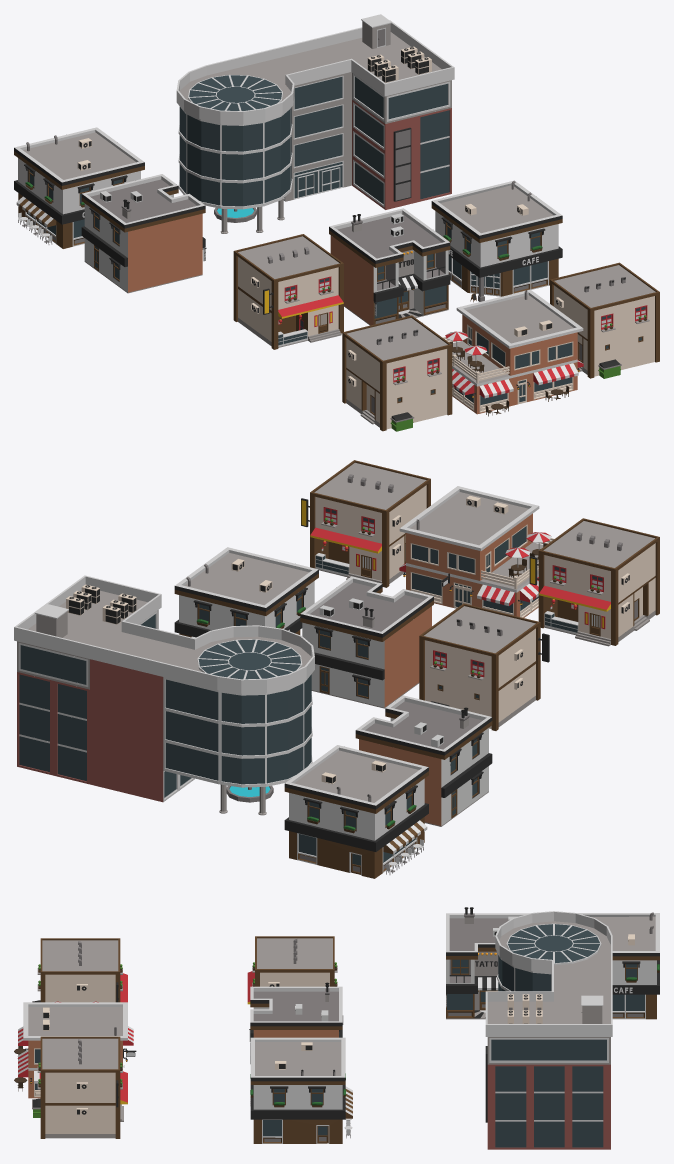
The model's file is shops-buildings.glb.
3 views of the same model, one above another, from view 1: azimuth 30°, elevation 25°; view 2: azimuth 150°, elevation 25°; view 3: azimuth 270°, elevation 25° (orthographic). The views are drawn at different scales.
Visible parts, largest first — view 1: building-mall, building-restaurant, building-cafe.001, building-tattoo.002, building-tattoo.001, building-shop-china.001, building-shop-china.005, building-cafe.002, building-shop-china.004; view 2: building-mall, building-cafe.002, building-restaurant, building-shop-china.001, building-tattoo.001, building-shop-china.005, building-shop-china.004, building-tattoo.002, building-cafe.001; view 3: building-mall, building-cafe.001, building-shop-china.004, building-shop-china.001, building-tattoo.002, building-restaurant, building-cafe.002, building-tattoo.001, building-shop-china.005.
Part boxes in pixels (<box>): building-mall: <box>176,14,454,233</box>; building-restaurant: <box>443,289,583,416</box>; building-cafe.001: <box>431,180,562,302</box>; building-tattoo.002: <box>81,174,206,293</box>; building-tattoo.001: <box>329,208,450,325</box>; building-shop-china.001: <box>342,315,452,431</box>; building-shop-china.005: <box>233,234,343,349</box>; building-cafe.002: <box>14,127,144,248</box>; building-shop-china.004: <box>550,262,659,378</box>; building-mall: <box>14,575,314,815</box>; building-cafe.002: <box>284,745,428,878</box>; building-restaurant: <box>399,486,554,617</box>; building-shop-china.001: <box>529,518,659,646</box>; building-tattoo.001: <box>300,576,433,708</box>; building-shop-china.005: <box>419,603,549,730</box>; building-shop-china.004: <box>301,460,430,587</box>; building-tattoo.002: <box>355,695,492,826</box>; building-cafe.001: <box>174,547,318,637</box>; building-mall: <box>485,911,612,1149</box>; building-cafe.001: <box>250,1037,352,1143</box>; building-shop-china.004: <box>32,1036,127,1138</box>; building-shop-china.001: <box>32,938,127,1002</box>; building-tattoo.002: <box>446,907,529,1019</box>; building-restaurant: <box>14,1001,136,1098</box>; building-cafe.002: <box>577,912,659,1019</box>; building-tattoo.001: <box>249,982,342,1063</box>; building-shop-china.005: <box>247,936,343,1024</box>.
Bounding box in the file's own units: 43.22 × 16.1 × 68.09.
